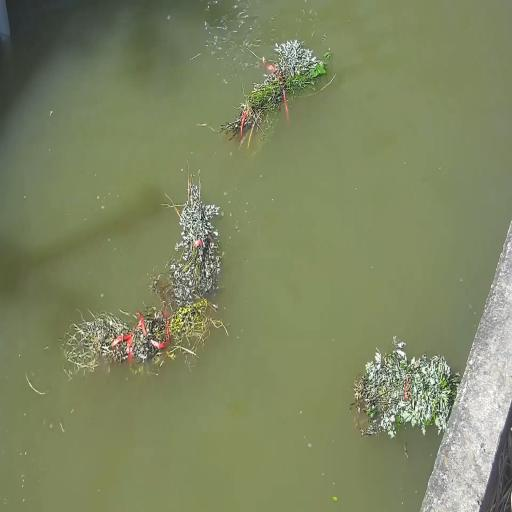twig: (351, 332, 460, 445), (64, 298, 223, 374), (218, 38, 327, 148), (159, 167, 222, 303)
